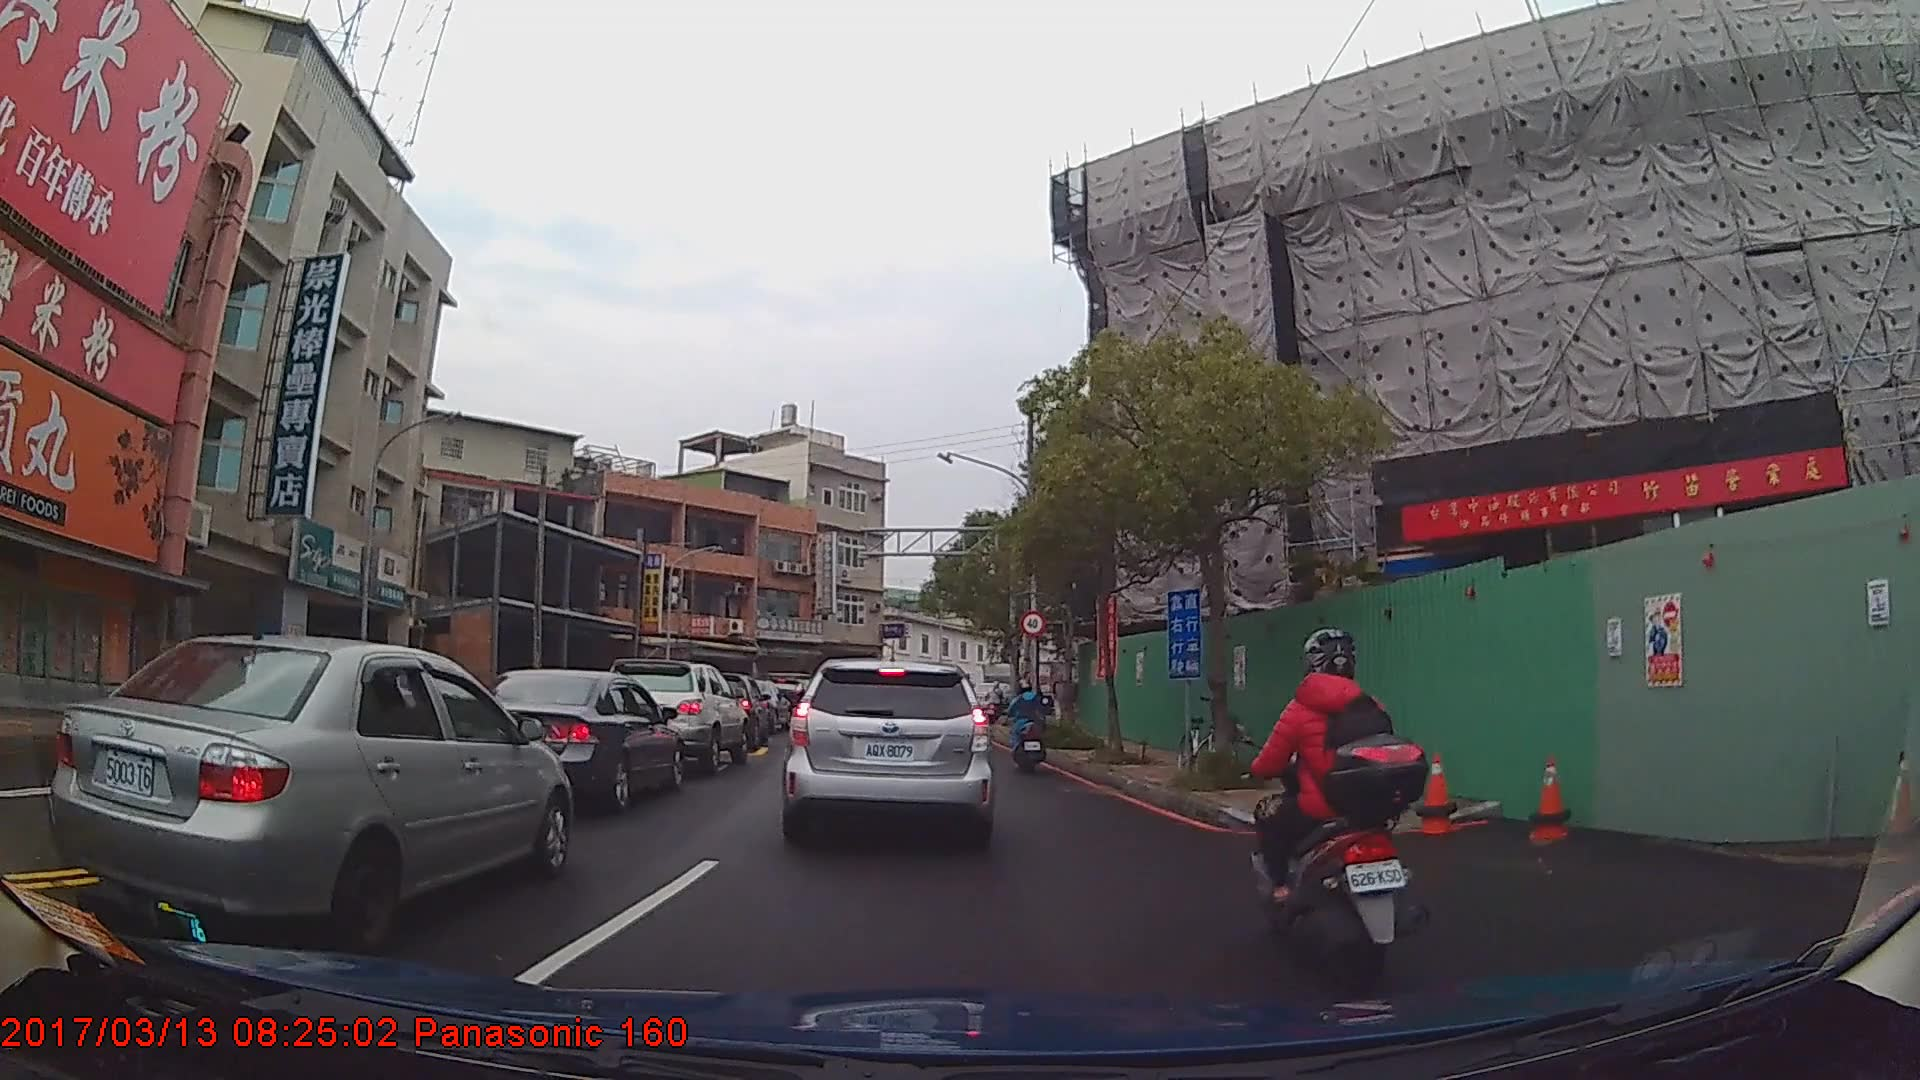rider: (1239, 627, 1441, 987), (1003, 682, 1050, 777)
vehicle: (48, 633, 574, 952), (780, 658, 995, 850), (454, 668, 685, 815), (602, 656, 748, 774)
